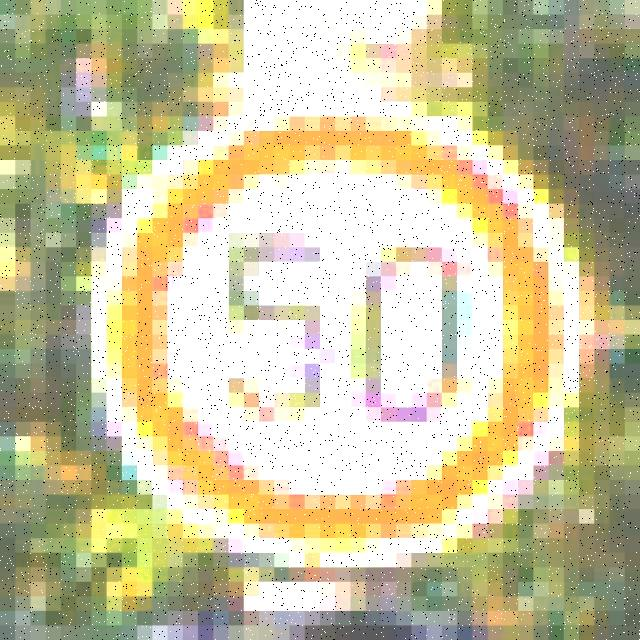Ograniczenie predkosci do 50: (118, 112, 554, 543)
